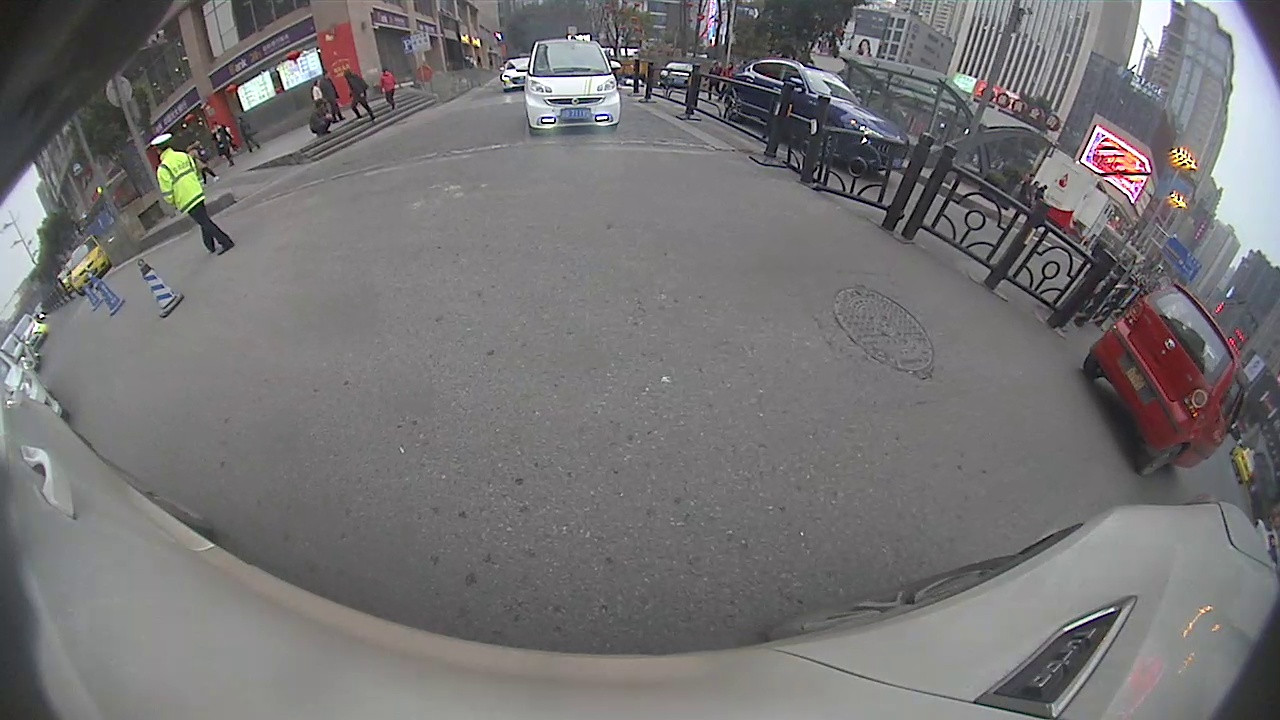car: (1081, 286, 1249, 478), (723, 56, 908, 181), (522, 37, 622, 136)
front: (805, 123, 837, 162)
person: (151, 131, 219, 262), (344, 68, 368, 122), (321, 69, 339, 120), (379, 69, 398, 109)
rear: (1137, 444, 1187, 478), (724, 89, 748, 121)
